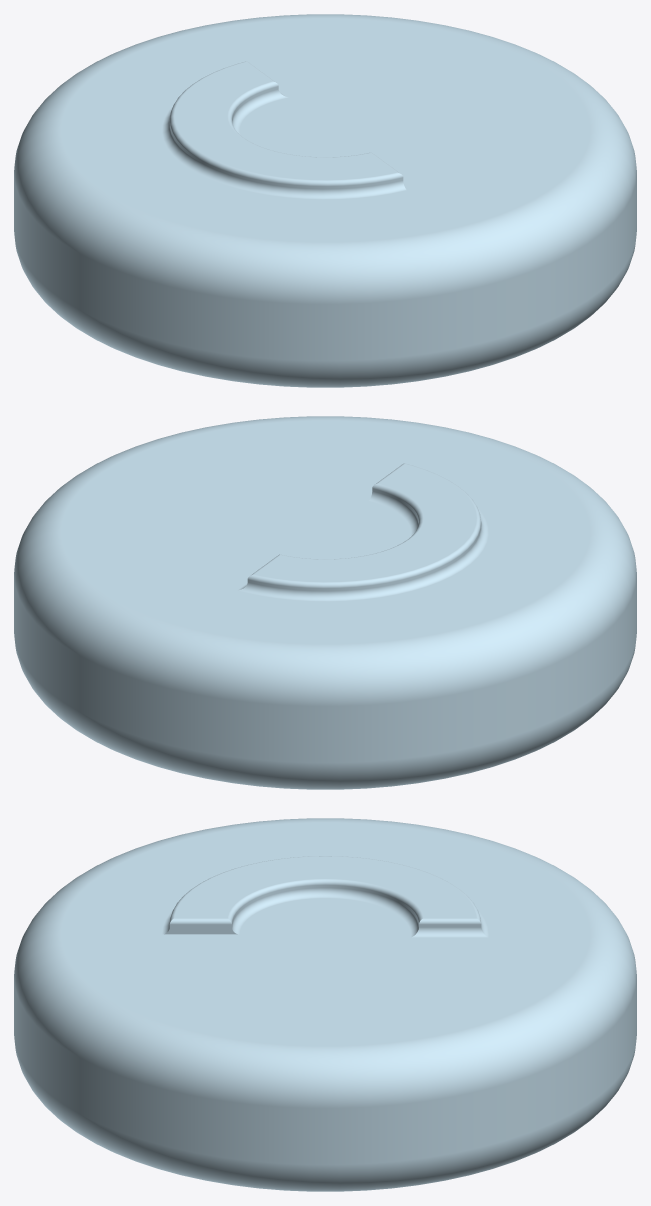
The model's file is Coin.gltf.
The picture shows the model from 3 angles, top to bottom: view 1: azimuth 30°, elevation 25°; view 2: azimuth 150°, elevation 25°; view 3: azimuth 270°, elevation 25°; orthographic projection.
Parts seen in each view (by area): view 1: Part 1; view 2: Part 1; view 3: Part 1.
Part boxes in pixels (<box>): Part 1: <box>14,14,636,387</box>; Part 1: <box>14,416,636,789</box>; Part 1: <box>14,818,636,1191</box>.
Bounding box in the file's own units: 0.1015 × 0.0305 × 0.1016.
